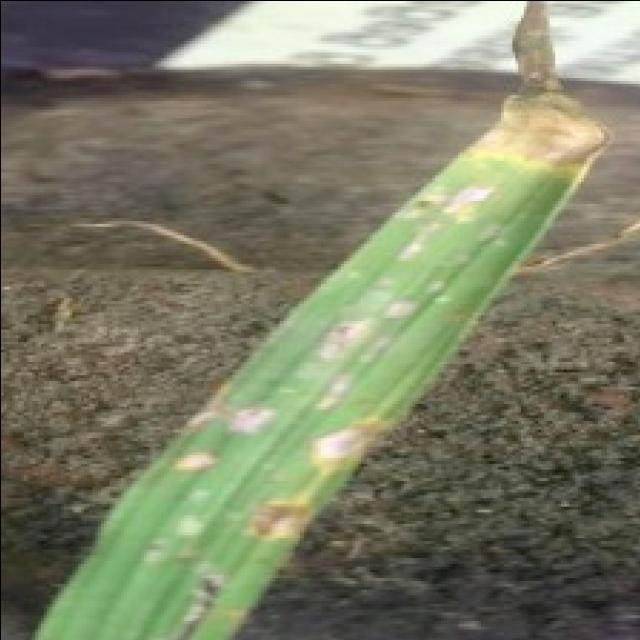Unhealthy: (454, 0, 609, 179), (235, 411, 393, 549), (289, 271, 417, 381), (391, 185, 495, 264), (180, 374, 276, 436), (164, 570, 225, 640), (311, 370, 356, 412), (171, 446, 222, 474), (175, 546, 211, 574), (477, 217, 509, 248), (356, 335, 388, 365), (215, 604, 249, 631), (173, 513, 207, 537), (177, 488, 208, 505), (265, 467, 296, 483), (421, 278, 442, 296), (142, 547, 161, 566), (342, 264, 361, 281), (431, 294, 451, 304)
